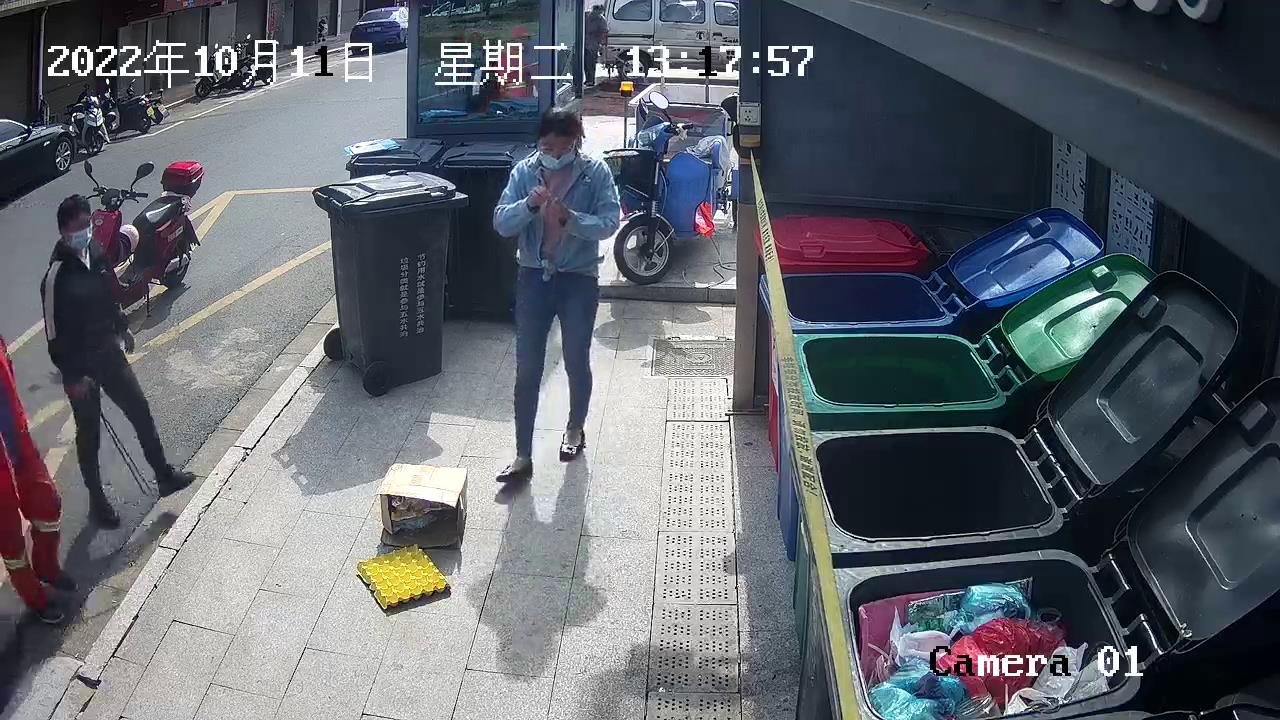person: (38, 193, 196, 529)
worker: (490, 105, 622, 483), (1, 334, 79, 625)
zhizhipin: (376, 460, 471, 553), (354, 541, 452, 615)
